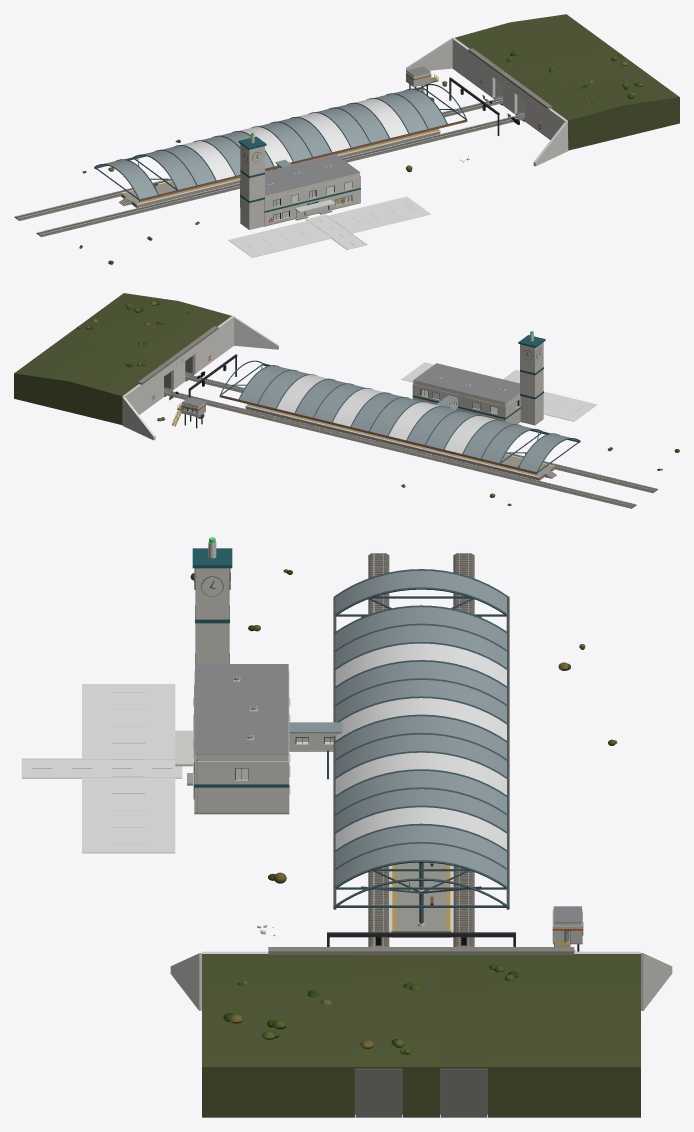
File: transit-station.glb
3 views of the same model, one above another, from view 1: azimuth 30°, elevation 25°; view 2: azimuth 150°, elevation 25°; view 3: azimuth 270°, elevation 25° (orthographic). The views are drawn at different scales.
Visible parts, largest first — view 1: C-1_-1_lod0, C1_-1_lod0, C1_0_lod0, C-1_0_lod0, C0_0_lod0, C-2_0_lod0, C-2_-1_lod0, C0_-1_lod0; view 2: C1_0_lod0, C-1_0_lod0, C-1_-1_lod0, C1_-1_lod0, C0_0_lod0, C-2_0_lod0, C-2_-1_lod0; view 3: C1_0_lod0, C-1_-1_lod0, C1_-1_lod0, C-1_0_lod0, C0_0_lod0, C-2_0_lod0, C2_-1_lod0, C2_0_lod0, C0_-1_lod0.
Boxes of the visible parts, bbox=[...] form: C-1_-1_lod0: bbox=[36, 115, 523, 257]; C1_-1_lod0: bbox=[477, 56, 679, 166]; C1_0_lod0: bbox=[406, 14, 627, 114]; C-1_0_lod0: bbox=[14, 87, 501, 220]; C0_0_lod0: bbox=[308, 66, 467, 147]; C-2_0_lod0: bbox=[27, 149, 197, 216]; C-2_-1_lod0: bbox=[49, 178, 253, 264]; C0_-1_lod0: bbox=[341, 109, 479, 210]; C1_0_lod0: bbox=[14, 326, 237, 440]; C-1_0_lod0: bbox=[165, 388, 636, 508]; C-1_-1_lod0: bbox=[186, 331, 657, 493]; C1_-1_lod0: bbox=[74, 293, 278, 387]; C0_0_lod0: bbox=[181, 360, 373, 436]; C-2_0_lod0: bbox=[481, 424, 623, 505]; C-2_-1_lod0: bbox=[506, 408, 679, 488]; C1_0_lod0: bbox=[268, 932, 672, 1117]; C-1_-1_lod0: bbox=[21, 537, 395, 946]; C1_-1_lod0: bbox=[170, 937, 421, 1117]; C-1_0_lod0: bbox=[334, 552, 617, 946]; C0_0_lod0: bbox=[334, 769, 583, 951]; C-2_0_lod0: bbox=[334, 564, 585, 670]; C2_-1_lod0: bbox=[355, 1048, 410, 1117]; C2_0_lod0: bbox=[440, 1068, 487, 1117]; C0_-1_lod0: bbox=[112, 844, 421, 946].
Size of what is drawn, in the model's own units: 200 by 31.3 by 97.78.
